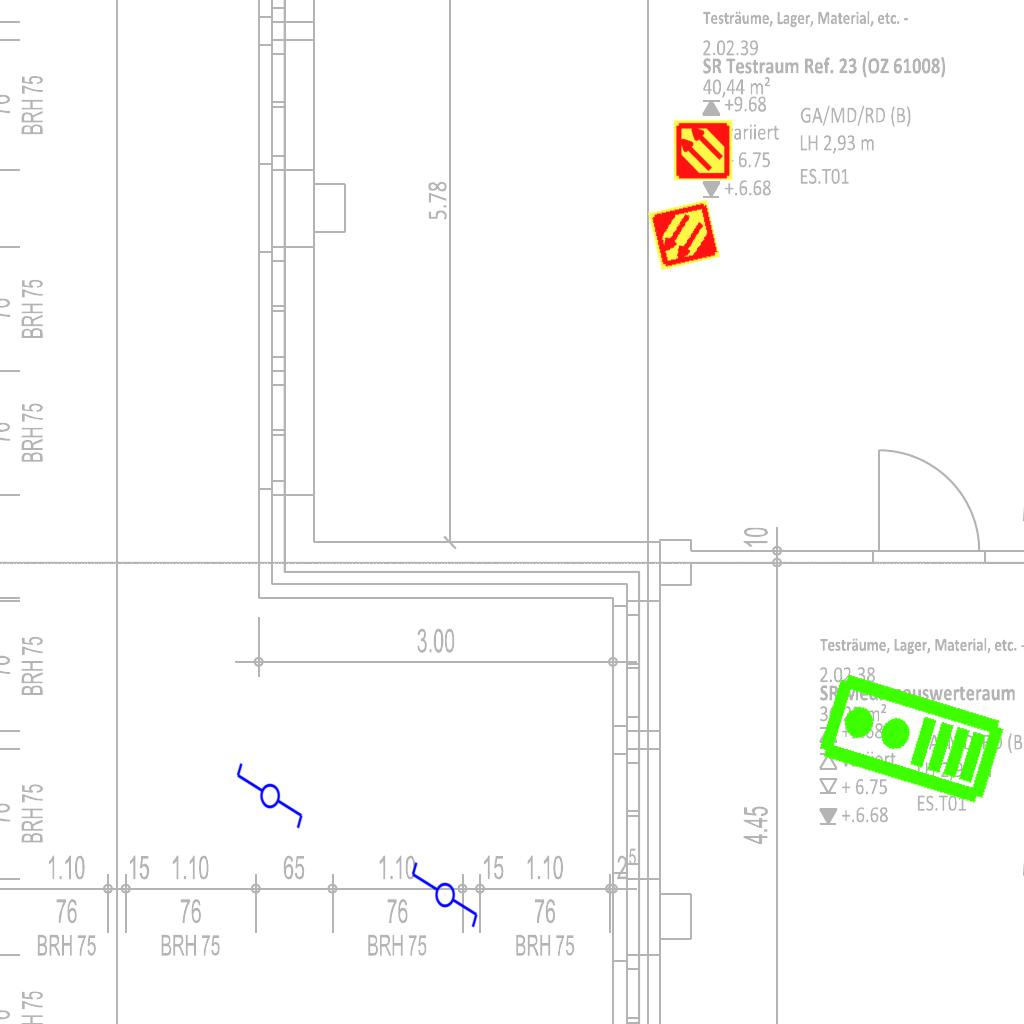ASR_Ansaugrauchmelder: (646, 197, 722, 273), (672, 119, 734, 181)
Gegensprechanlage_mit_Video: (812, 668, 1009, 812)
Wechselschalter: (408, 860, 480, 938), (233, 761, 305, 839)
